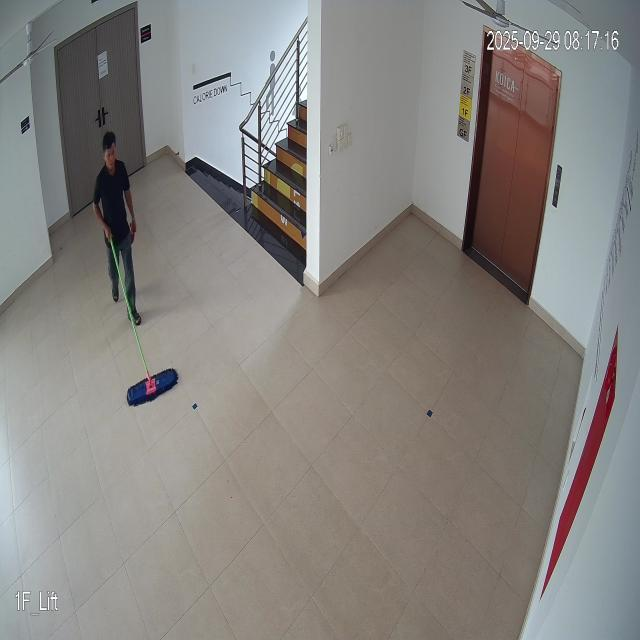face: (99, 132, 122, 174)
